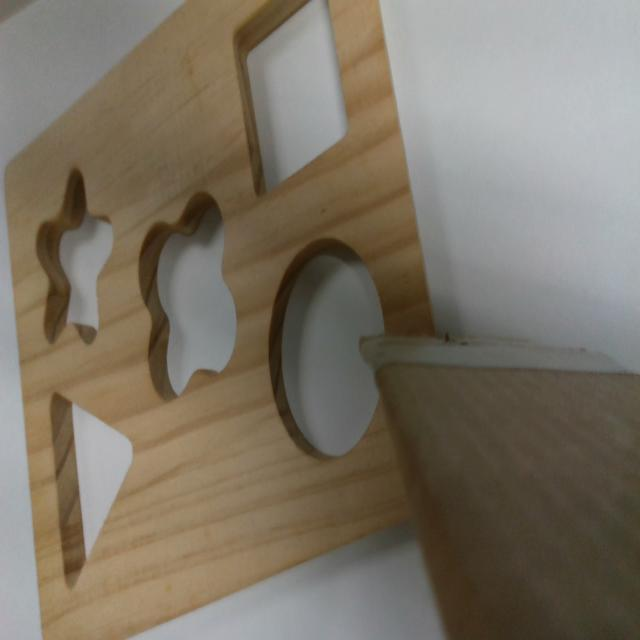circle: (273, 244, 385, 456)
flower: (137, 188, 236, 404)
square: (233, 4, 350, 198)
star: (30, 166, 114, 346)
triangle: (44, 390, 133, 592)
